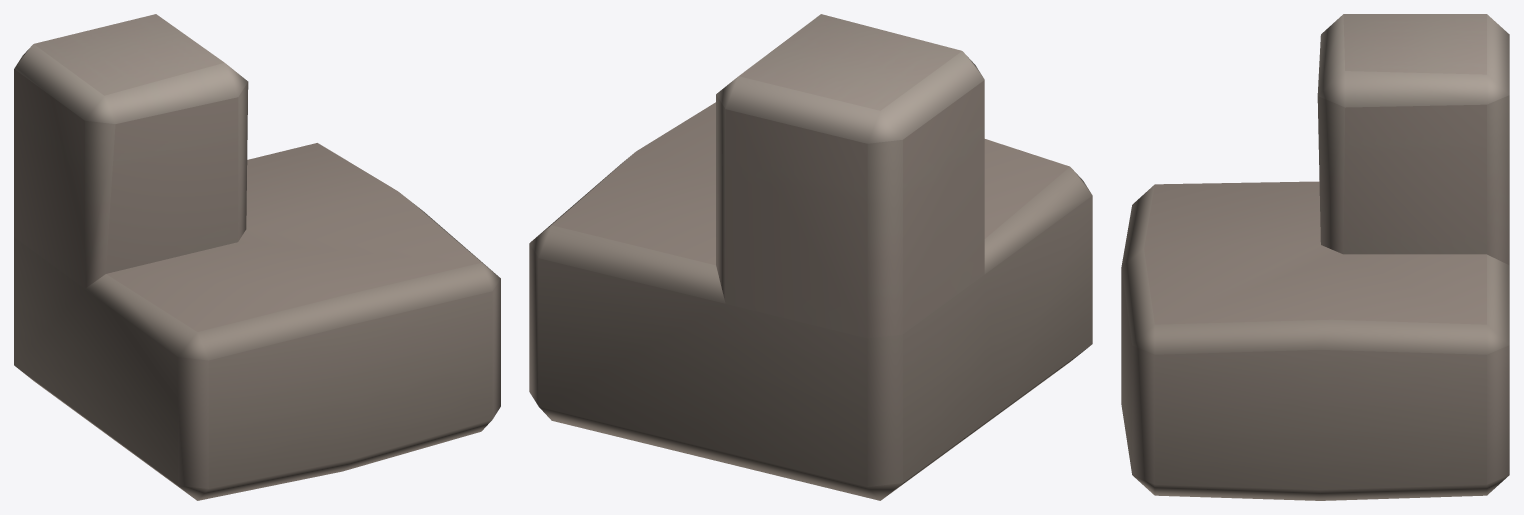
File: elf_stair_corner_conv_shade_3.fbx
The picture shows the model from 3 angles, left to right: view 1: azimuth 30°, elevation 25°; view 2: azimuth 150°, elevation 25°; view 3: azimuth 270°, elevation 25°; orthographic projection. The views are drawn at different scales.
Visible parts, largest first — view 1: elf_stair_corner_conv_shade_3; view 2: elf_stair_corner_conv_shade_3; view 3: elf_stair_corner_conv_shade_3.
Boxes of the visible parts, x1,y1,x2,y2 form: elf_stair_corner_conv_shade_3: (14,14,500,500); elf_stair_corner_conv_shade_3: (529,14,1092,500); elf_stair_corner_conv_shade_3: (1121,14,1509,500).
Bounding box in the file's own units: 50.88 × 50.69 × 51.43.
